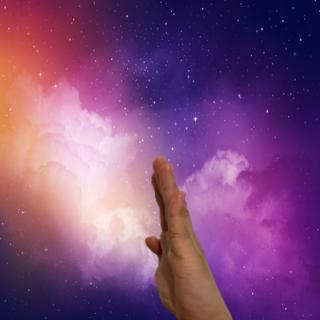RIGHT: (134, 150, 243, 320)
